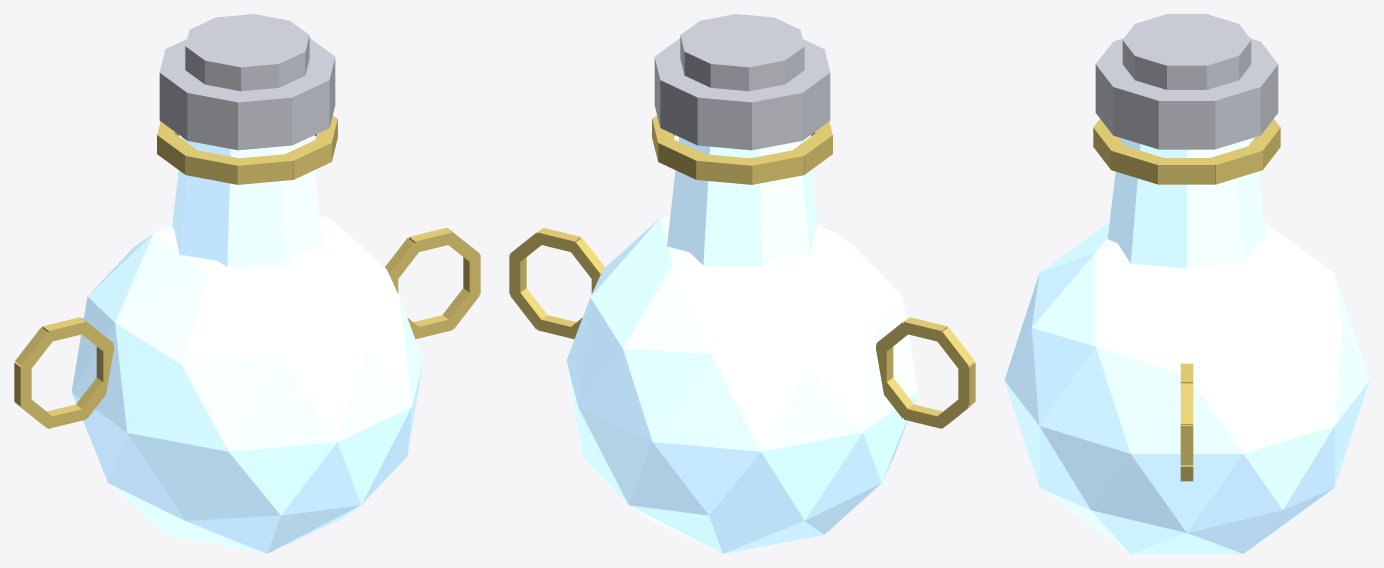
The model's file is chug_jug.glb.
The picture shows the model from 3 angles, left to right: view 1: azimuth 30°, elevation 25°; view 2: azimuth 150°, elevation 25°; view 3: azimuth 270°, elevation 25°; orthographic projection.
Visible parts, largest first — view 1: chug_jug; view 2: chug_jug; view 3: chug_jug.
Part boxes in pixels (x1,y1,x2,y2): chug_jug: (14,14,480,553); chug_jug: (509,14,975,553); chug_jug: (1004,14,1369,553).
Size of the model in its own units: 0.753 by 0.78 by 0.51.
